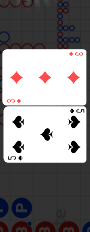3D: (5, 98, 22, 105)
5C: (7, 155, 24, 162)
